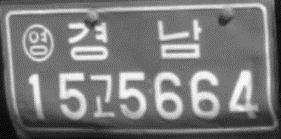1: (23, 70, 50, 123)
4: (225, 69, 261, 121)
5: (56, 70, 89, 122), (116, 70, 149, 120)
6: (152, 70, 185, 123), (188, 68, 221, 121)
경남_D: (65, 16, 203, 63)
고: (88, 72, 115, 120)
영: (21, 22, 55, 63)
